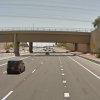Bridge: (4, 20, 88, 53)
